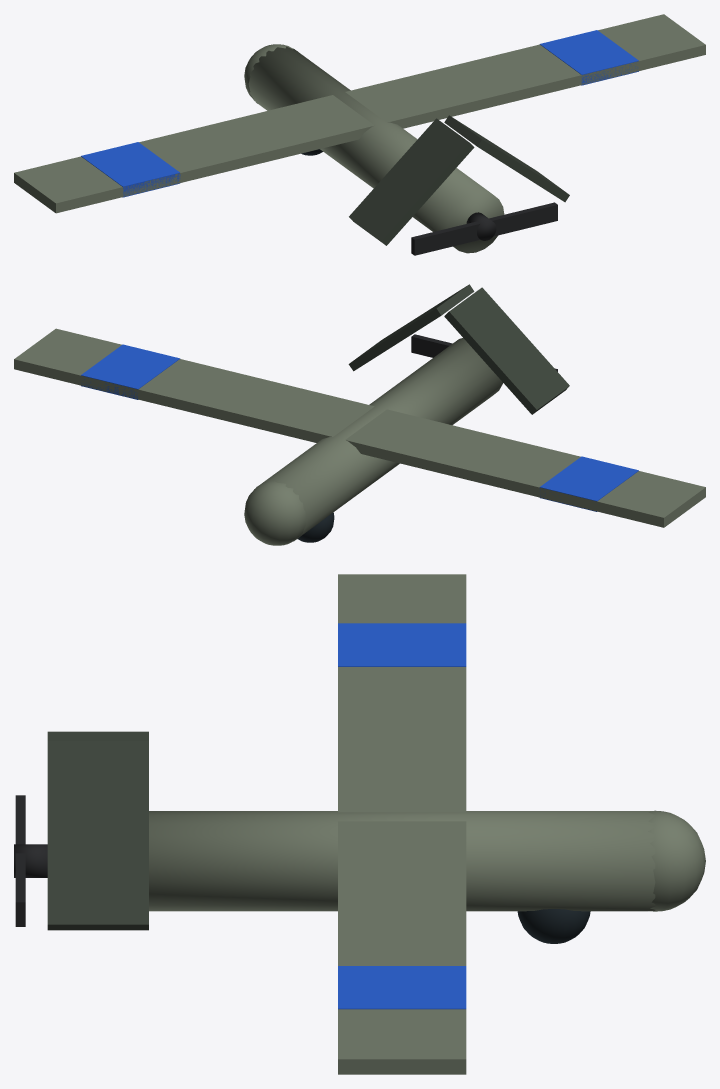
File: Drone_Blue.fbx
3 views of the same model, one above another, from view 1: azimuth 30°, elevation 25°; view 2: azimuth 150°, elevation 25°; view 3: azimuth 270°, elevation 25° (orthographic). The views are drawn at different scales.
Parts seen in each view (by area): view 1: Wing, Body, TailL, WingStripeL, WingStripeR, PropBlade, TailR, PropHub, Nose; view 2: Wing, Body, TailL, Nose, WingStripeR, WingStripeL, TailR, PropBlade, Camera; view 3: Wing, Body, TailR, WingStripeL, WingStripeR, Nose, Camera, PropBlade, TailL, PropHub.
Part boxes in pixels (bbox=[...]): Wing: bbox=[14, 14, 705, 213]; Body: bbox=[248, 46, 504, 253]; TailL: bbox=[349, 118, 474, 245]; WingStripeL: bbox=[81, 142, 180, 197]; WingStripeR: bbox=[539, 30, 638, 85]; PropBlade: bbox=[411, 202, 557, 255]; TailR: bbox=[444, 115, 569, 202]; PropHub: bbox=[466, 212, 496, 240]; Nose: bbox=[244, 44, 297, 103]; Wing: bbox=[14, 328, 705, 527]; Body: bbox=[254, 338, 502, 541]; TailL: bbox=[444, 287, 569, 414]; Nose: bbox=[244, 480, 305, 545]; WingStripeR: bbox=[81, 344, 180, 399]; WingStripeL: bbox=[539, 456, 638, 511]; TailR: bbox=[348, 284, 474, 371]; PropBlade: bbox=[411, 334, 557, 371]; Camera: bbox=[298, 512, 334, 542]; Wing: bbox=[338, 574, 466, 1074]; Body: bbox=[149, 811, 655, 911]; TailR: bbox=[47, 741, 148, 930]; WingStripeL: bbox=[338, 623, 466, 666]; WingStripeR: bbox=[338, 966, 466, 1009]; Nose: bbox=[648, 810, 705, 911]; Camera: bbox=[517, 909, 590, 943]; PropBlade: bbox=[15, 795, 25, 926]; TailL: bbox=[47, 731, 148, 740]; PropHub: bbox=[14, 844, 47, 877].
Bounding box in the file's own units: 340 × 205 × 66.82.
